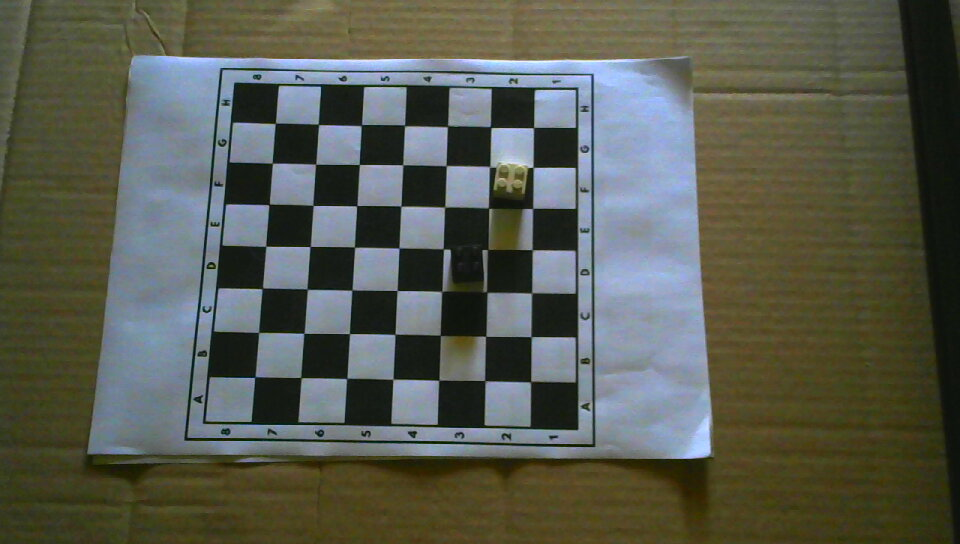bp: (450, 243, 485, 283)
wp: (492, 160, 529, 202)
